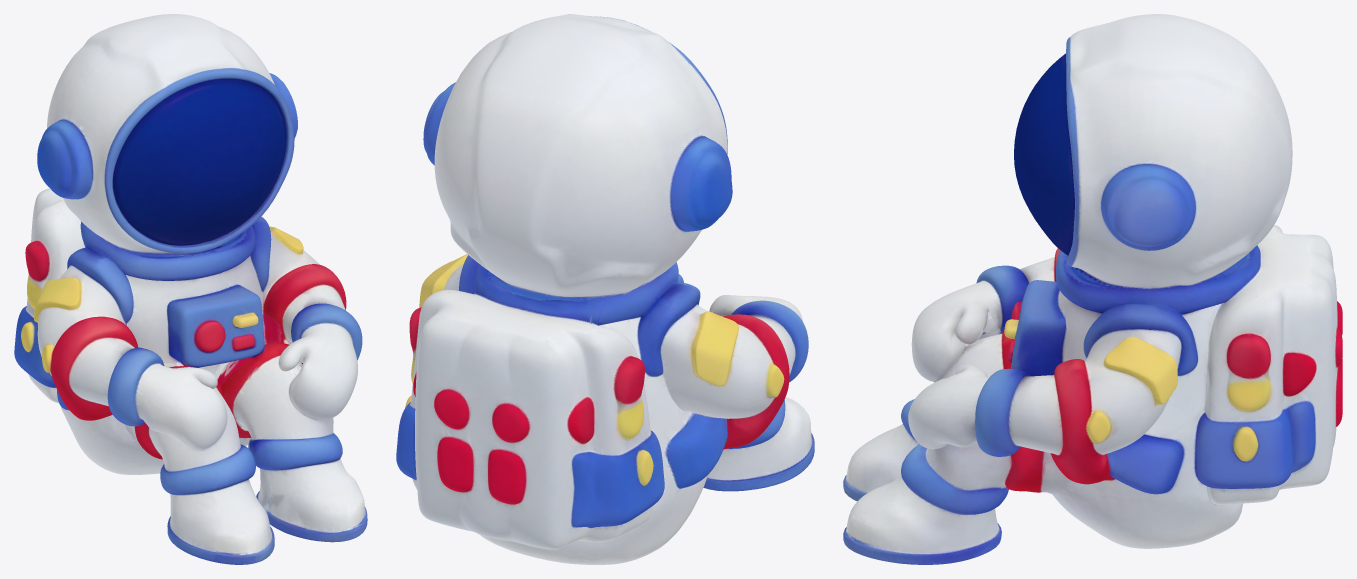
File: Astronauta.glb
The picture shows the model from 3 angles, left to right: view 1: azimuth 30°, elevation 25°; view 2: azimuth 150°, elevation 25°; view 3: azimuth 270°, elevation 25°; orthographic projection. The views are drawn at different scales.
Bounding box in the file's own units: 1.37 × 1.89 × 1.76.
Materials: 1 (1 with a texture image).
